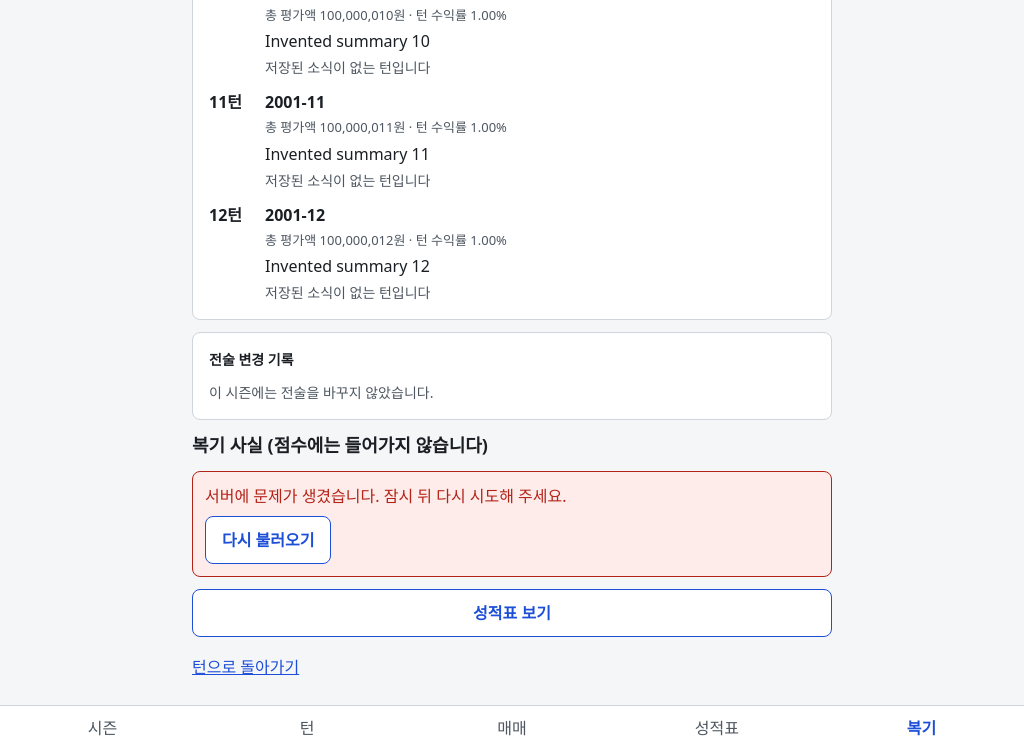
it: review facts › C6 keeps the review rows when the analysis fails, and retries with one more GET
The image size is (1024, 750).
(page scrolled)
expect the message shows "서버에 문제가 생겼습니다.": met, box [205,485,566,507]
What coordinates should you click on to do the following:
click the button "다시 불러오기"
I would click on:
 (268, 540)
Its box is [205,516,332,564].
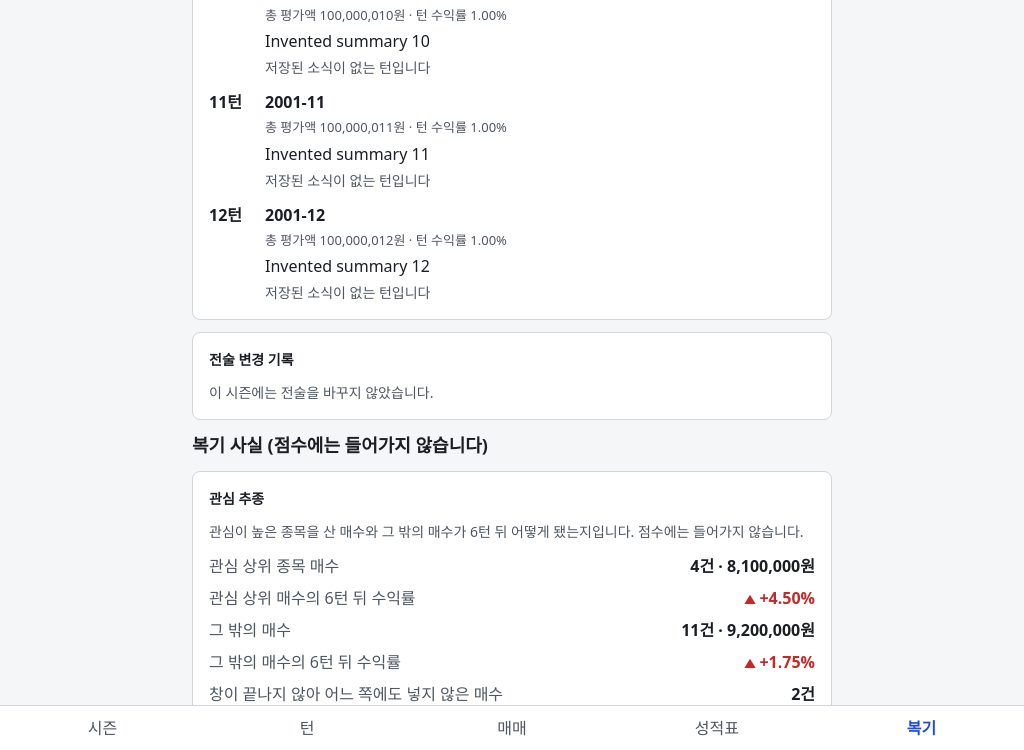
expect the heading "관심 추종" is shown: met, box [209,489,264,508]
